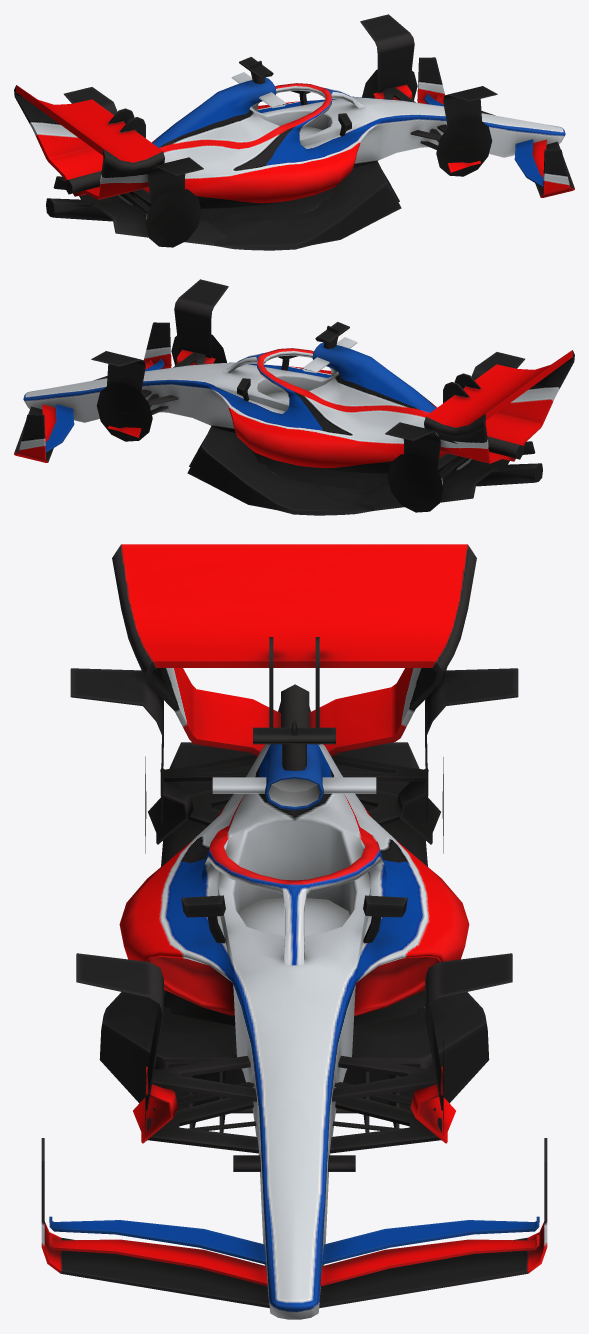
Rendered from f1_car_19.dae.
3 views of the same model, one above another, from view 1: azimuth 30°, elevation 25°; view 2: azimuth 150°, elevation 25°; view 3: azimuth 270°, elevation 25° (orthographic). The views are drawn at different scales.
Visible parts, largest first — view 1: F1_Car; view 2: F1_Car; view 3: F1_Car.
Boxes of the visible parts, left/top/right/bottom form: F1_Car: left=14, top=14, right=574, bottom=250; F1_Car: left=14, top=279, right=574, bottom=515; F1_Car: left=41, top=544, right=547, bottom=1319.
Bounding box in the file's own units: 34.44 × 14.7 × 9.69.
Materials: 1 (1 with a texture image).
